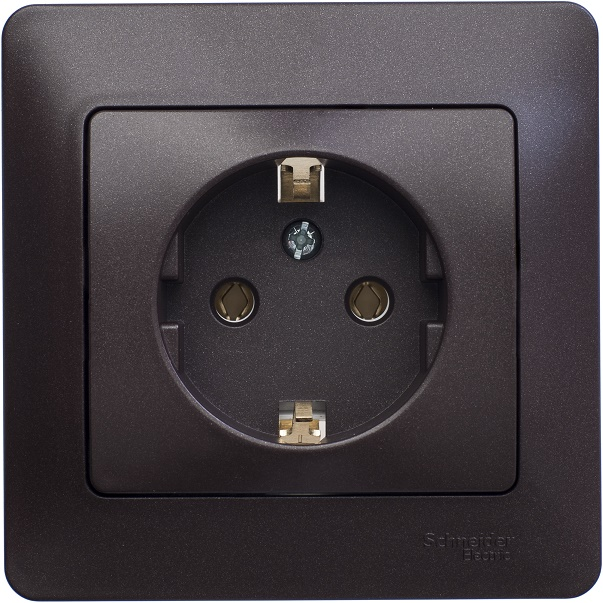raccoon: (151, 147, 454, 454)
